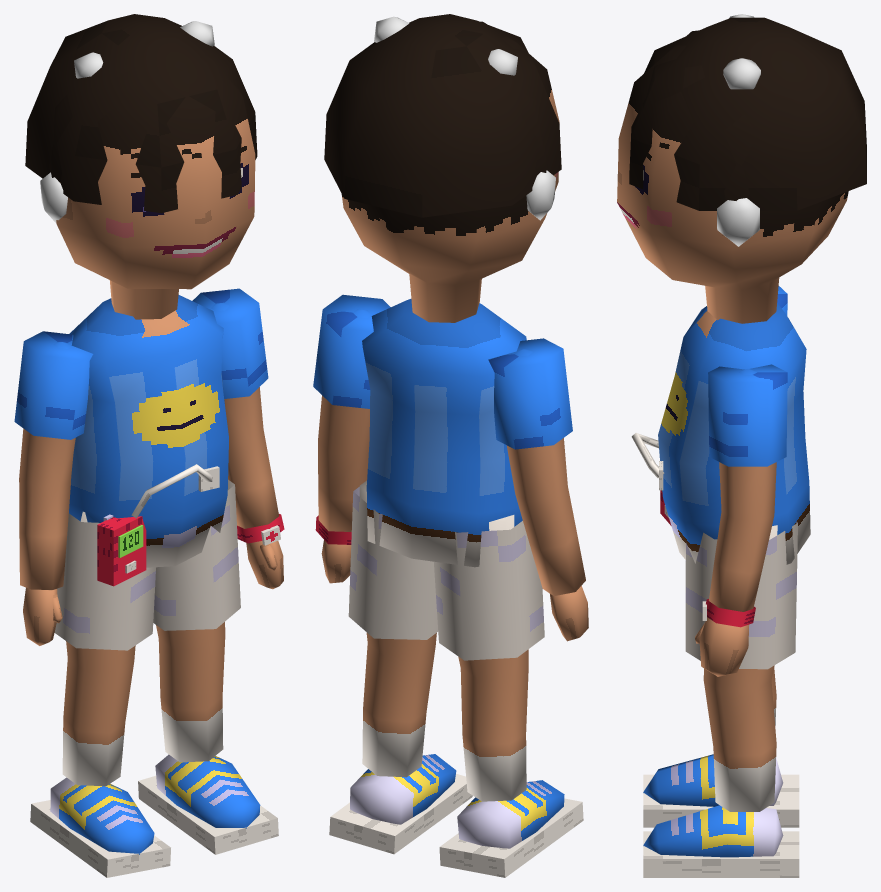
The model's file is Diabetic Kid.fbx.
3 renders of one model, left to right at view 1: azimuth 30°, elevation 25°; view 2: azimuth 150°, elevation 25°; view 3: azimuth 270°, elevation 25°, orthographic. The views are drawn at different scales.
Visible parts, largest first — view 1: Diabetic Kid torso, Diabetic Kid head, Diabetic Kid hair cap, Diabetic Kid leg R.001, Diabetic Kid shorts R, Diabetic Kid leg L.001, Diabetic Kid arm R.001, Diabetic Kid shorts L, Diabetic Kid sleeve R, Diabetic Kid arm L.001, Diabetic Kid shoe L, Diabetic Kid shoe R (+11 smaller); view 2: Diabetic Kid hair cap, Diabetic Kid torso, Diabetic Kid head, Diabetic Kid shorts R, Diabetic Kid leg R.001, Diabetic Kid leg L.001, Diabetic Kid shorts L, Diabetic Kid arm R.001, Diabetic Kid sleeve R, Diabetic Kid arm L.001, Diabetic Kid sleeve L, Diabetic Kid shoe R (+8 smaller); view 3: Diabetic Kid hair cap, Diabetic Kid head, Diabetic Kid torso, Diabetic Kid leg L.001, Diabetic Kid shorts L, Diabetic Kid arm L.001, Diabetic Kid sleeve L, Diabetic Kid shoe L, Diabetic Kid sole L, Diabetic Kid shoe R, Diabetic Kid sole R, Diabetic Kid hand L (+4 smaller).
Part boxes in pixels (box(x1,y1,x2,y2)): Diabetic Kid torso: box(69, 295, 228, 567); Diabetic Kid head: box(49, 54, 255, 319); Diabetic Kid hair cap: box(25, 14, 257, 213); Diabetic Kid leg R.001: box(62, 511, 135, 786); Diabetic Kid shorts R: box(54, 513, 155, 650); Diabetic Kid leg L.001: box(156, 622, 225, 762); Diabetic Kid arm R.001: box(19, 342, 75, 589); Diabetic Kid shorts L: box(153, 479, 240, 630); Diabetic Kid sleeve R: box(14, 331, 93, 439); Diabetic Kid arm L.001: box(211, 302, 278, 528); Diabetic Kid shoe L: box(155, 754, 260, 828); Diabetic Kid shoe R: box(50, 777, 154, 854); Diabetic Kid hair cap: box(324, 14, 561, 217); Diabetic Kid torso: box(362, 299, 526, 567); Diabetic Kid head: box(341, 21, 559, 322); Diabetic Kid shorts R: box(434, 521, 544, 660); Diabetic Kid leg R.001: box(458, 515, 528, 801); Diabetic Kid leg L.001: box(359, 480, 436, 777); Diabetic Kid shorts L: box(348, 487, 438, 639); Diabetic Kid arm R.001: box(506, 349, 585, 595); Diabetic Kid sleeve R: box(488, 338, 572, 449); Diabetic Kid arm L.001: box(318, 309, 371, 531); Diabetic Kid sleeve L: box(313, 294, 390, 408); Diabetic Kid shoe R: box(457, 780, 564, 848); Diabetic Kid hair cap: box(629, 17, 866, 210); Diabetic Kid head: box(617, 30, 848, 323); Diabetic Kid torso: box(658, 303, 810, 564); Diabetic Kid leg L.001: box(703, 525, 777, 811); Diabetic Kid shorts L: box(685, 521, 797, 669); Diabetic Kid arm L.001: box(709, 369, 776, 611); Diabetic Kid sleeve L: box(708, 364, 787, 466); Diabetic Kid shoe L: box(643, 805, 783, 857); Diabetic Kid sole L: box(643, 831, 799, 877); Diabetic Kid shoe R: box(643, 754, 783, 806); Diabetic Kid sole R: box(643, 774, 799, 827); Diabetic Kid hand L: box(699, 617, 749, 676).
Bounding box in the file's own units: 0.4044 × 1.21 × 0.3389.
Materials: 21 (19 with a texture image).
